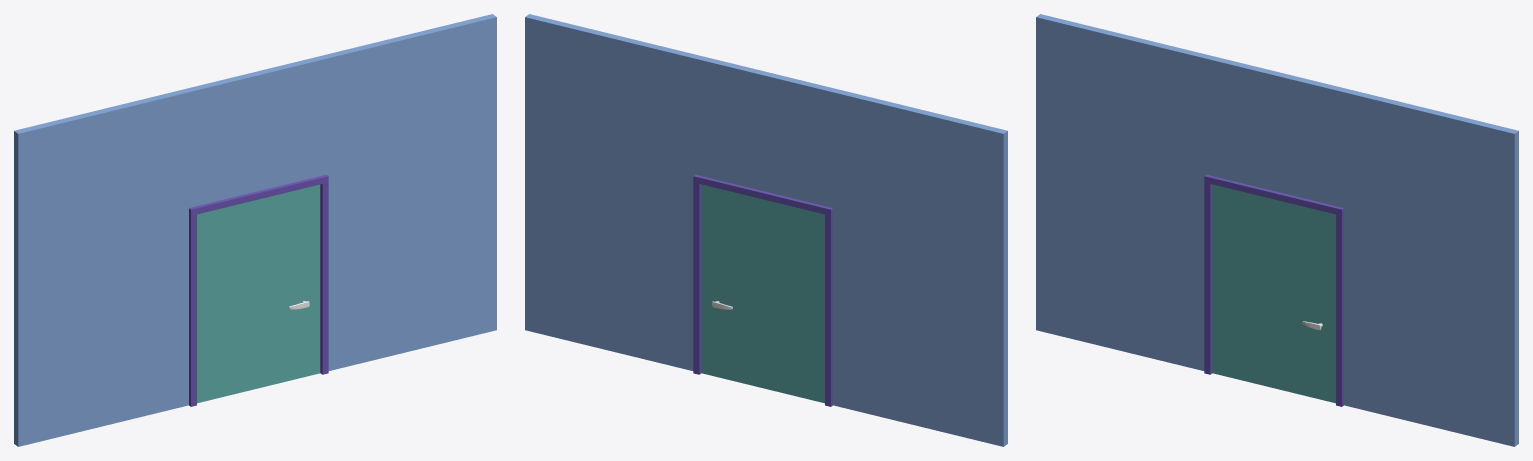
The model's file is 90sArcade_CenterDoorWall_8m.fbx.
The picture shows the model from 3 angles, left to right: view 1: azimuth 30°, elevation 25°; view 2: azimuth 150°, elevation 25°; view 3: azimuth 330°, elevation 25°; orthographic projection.
Parts seen in each view (by area): view 1: WallBack, DoorPanel, DoorFrame, WallDoorCenter_8m; view 2: WallDoorCenter_8m, DoorPanel, DoorFrame, WallBack; view 3: WallBack, DoorPanel, DoorFrame, WallDoorCenter_8m.
Part boxes in pixels (left/top/right/bottom): WallBack: left=16, top=15, right=496, bottom=446; DoorPanel: left=197, top=184, right=320, bottom=403; DoorFrame: left=189, top=174, right=328, bottom=406; WallDoorCenter_8m: left=14, top=14, right=494, bottom=444; WallDoorCenter_8m: left=525, top=15, right=1005, bottom=446; DoorPanel: left=701, top=184, right=824, bottom=403; DoorFrame: left=693, top=174, right=832, bottom=406; WallBack: left=527, top=14, right=1007, bottom=444; WallBack: left=1036, top=15, right=1516, bottom=446; DoorPanel: left=1212, top=184, right=1335, bottom=403; DoorFrame: left=1204, top=174, right=1343, bottom=406; WallDoorCenter_8m: left=1038, top=14, right=1518, bottom=444.
Size of the model in its own units: 800 by 500 by 33.33.
